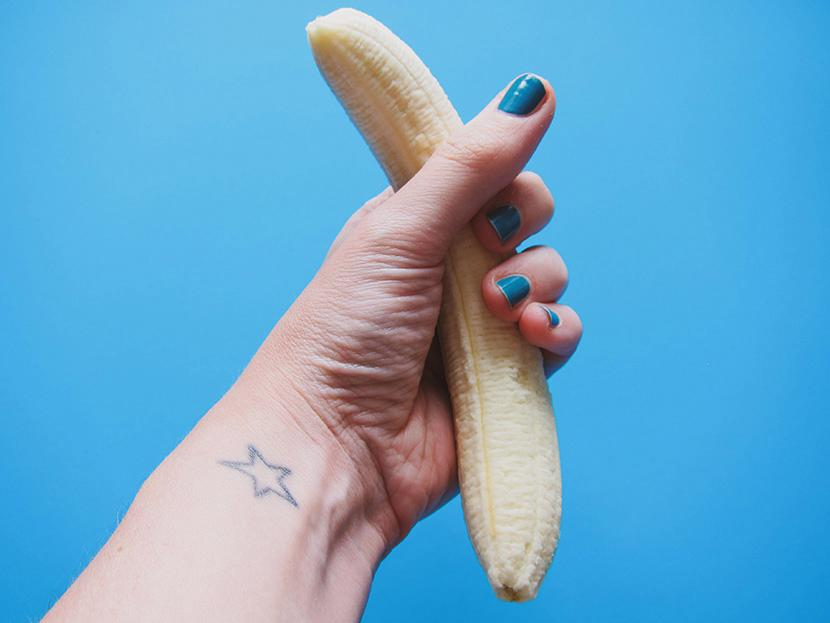no-phone: (234, 18, 589, 537)
